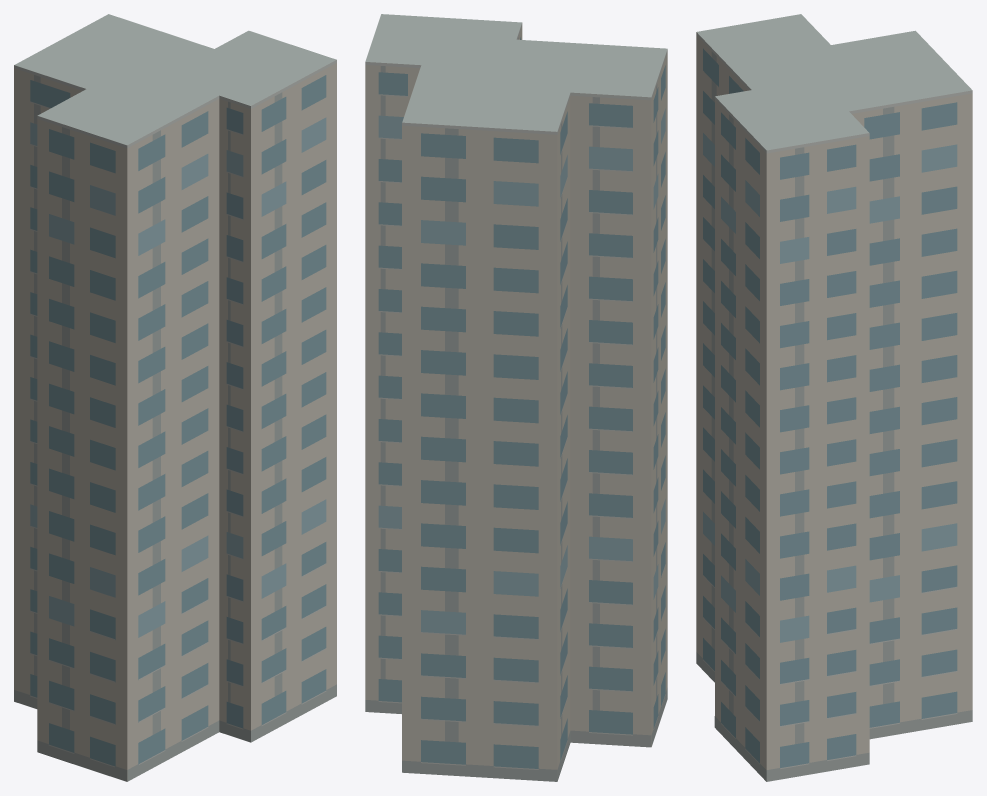
File: residential-0132e4e2-f25d-4c15-9eb0-4d2f9a1ddf25.glb
The picture shows the model from 3 angles, left to right: view 1: azimuth 30°, elevation 25°; view 2: azimuth 150°, elevation 25°; view 3: azimuth 270°, elevation 25°; orthographic projection. The views are drawn at different scales.
Visible parts, largest first — view 1: residential-0132e4e2-f25d-4c15-9eb0-4d2f9a1ddf25.tmp; view 2: residential-0132e4e2-f25d-4c15-9eb0-4d2f9a1ddf25.tmp; view 3: residential-0132e4e2-f25d-4c15-9eb0-4d2f9a1ddf25.tmp.
Part boxes in pixels (bbox=[...]): residential-0132e4e2-f25d-4c15-9eb0-4d2f9a1ddf25.tmp: bbox=[14, 14, 336, 781]; residential-0132e4e2-f25d-4c15-9eb0-4d2f9a1ddf25.tmp: bbox=[365, 14, 667, 781]; residential-0132e4e2-f25d-4c15-9eb0-4d2f9a1ddf25.tmp: bbox=[696, 14, 972, 781].
Bounding box in the file's own units: 23.66 × 51 × 20.24.
